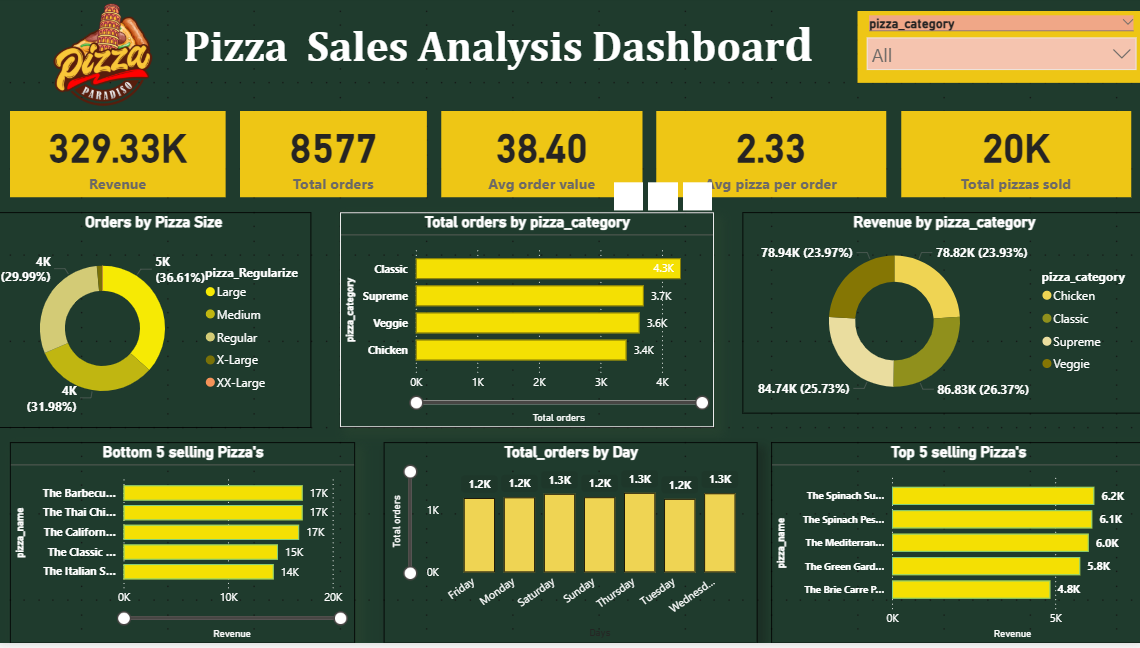

What the dashboard file says about the page in this screenshot:
{"tool":"powerbi","page":{"name":"Page 1","canvas":[1280,720],"ordinal":0},"visuals":[{"type":"card","fields":{"Values":["pizza_sales1.Total_pizzasold"]},"box":[1008,128,256,96],"z":0},{"type":"card","fields":{"Values":["pizza_sales1.Avg_order_value"]},"box":[480,128,240,96],"z":1000},{"type":"card","fields":{"Values":["pizza_sales1.Total_orders"]},"box":[240,128,224,96],"z":2000},{"type":"card","fields":{"Values":["pizza_sales1.Revenue"]},"box":[0,128,224,96],"z":3000},{"type":"card","fields":{"Values":["pizza_sales1.avg_pizza per_order"]},"box":[736,128,256,96],"z":4000},{"type":"textbox","box":[0,16,1120,96],"z":5000},{"type":"image","box":[0,0,208,128],"z":6000},{"type":"slicer","fields":{"Values":["pizza_sales1.pizza_category"]},"box":[944,32,320,80],"z":7000},{"type":"clusteredBarChart","fields":{"Category":["pizza_sales1.pizza_category"],"Y":["pizza_sales1.Total_orders"]},"box":[384,240,416,240],"z":8000},{"type":"donutChart","fields":{"Series":["pizza_sales1.pizza_category"],"Y":["pizza_sales1.Revenue"],"Category":["pizza_sales1.pizza_category"]},"box":[832,240,448,224],"z":9000},{"type":"columnChart","title":"Total_orders by Day","fields":{"Y":["pizza_sales1.Total_orders"],"Category":["pizza_sales1.Day Name"]},"box":[416,496,416,224],"z":10000},{"type":"clusteredBarChart","title":"Bottom 5 selling Pizza''s","fields":{"Category":["pizza_sales1.pizza_name"],"Y":["pizza_sales1.Revenue"]},"box":[0,496,400,224],"z":11000},{"type":"barChart","title":"Top 5 selling Pizza''s","fields":{"Category":["pizza_sales1.pizza_name"],"Y":["pizza_sales1.Revenue"]},"box":[848,496,432,224],"z":12000},{"type":"donutChart","title":"Orders by Pizza Size","fields":{"Y":["pizza_sales1.Total_orders"],"Category":["pizza_sales1.pizza_Regularize"]},"box":[0,240,352,240],"z":13000}]}

Visuals, with their boxes in screenshot pixels (x1, y1, x2, y2), scaled from the page's 1280x720 canvas onto the 1140x648 screenshot:
card - pizza_sales1.Total_pizzasold: region(898, 115, 1126, 202)
card - pizza_sales1.Avg_order_value: region(428, 115, 641, 202)
card - pizza_sales1.Total_orders: region(214, 115, 413, 202)
card - pizza_sales1.Revenue: region(0, 115, 200, 202)
card - pizza_sales1.avg_pizza per_order: region(656, 115, 884, 202)
textbox: region(0, 14, 998, 101)
image: region(0, 0, 185, 115)
slicer - pizza_sales1.pizza_category: region(841, 29, 1126, 101)
clusteredBarChart - pizza_sales1.pizza_category x pizza_sales1.Total_orders: region(342, 216, 712, 432)
donutChart - pizza_sales1.pizza_category x pizza_sales1.Revenue: region(741, 216, 1139, 418)
"Total_orders by Day" columnChart: region(370, 446, 741, 647)
"Bottom 5 selling Pizza''s" clusteredBarChart: region(0, 446, 356, 647)
"Top 5 selling Pizza''s" barChart: region(755, 446, 1139, 647)
"Orders by Pizza Size" donutChart: region(0, 216, 314, 432)
